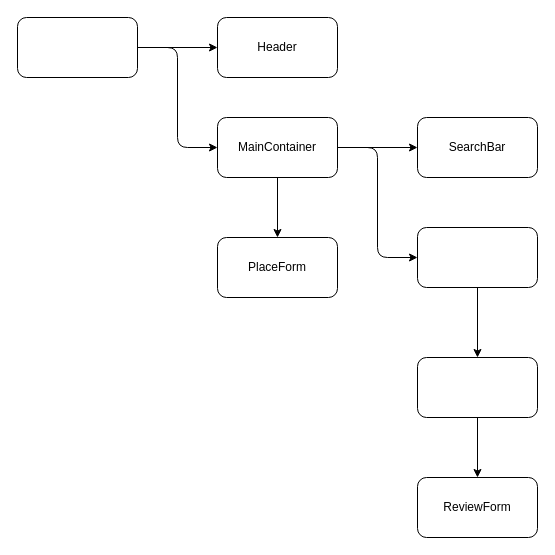
This 555x555 diagram has some shape labels left out. The shapes that lost their labels are listed below. From the top down, each one's centre as x and y in pixels, then its label:
the point at 77,47: App
the point at 477,257: PlacesCollection
the point at 477,387: Place
